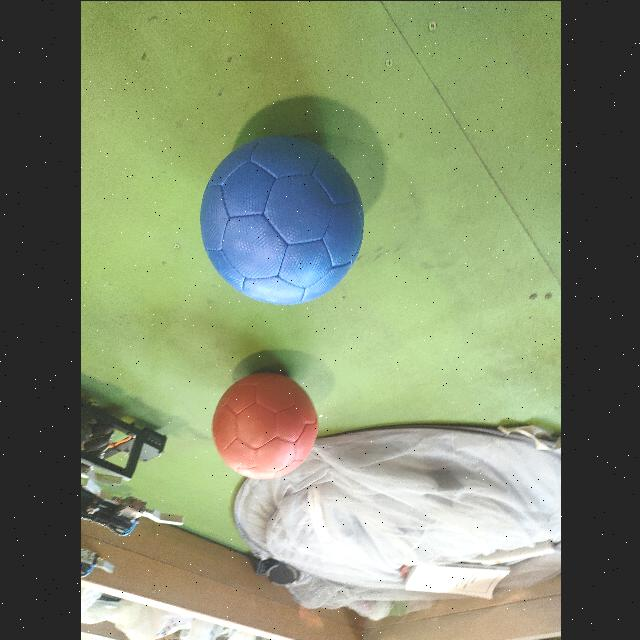B: (198, 131, 364, 303)
R: (210, 368, 319, 478)
